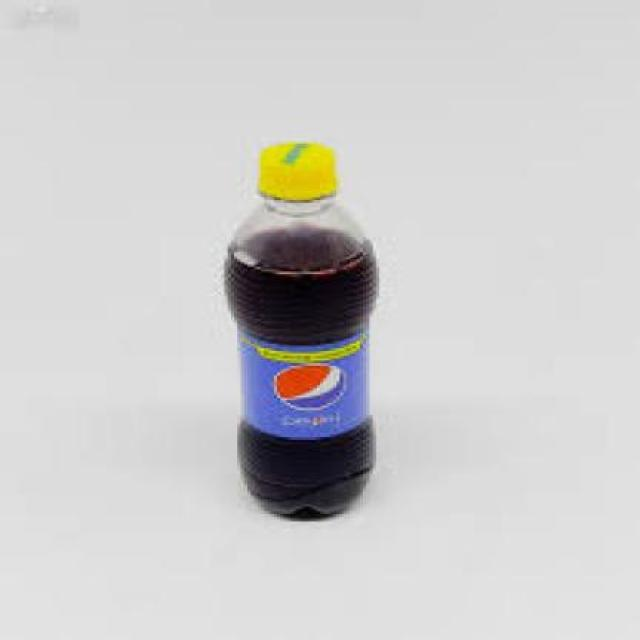high: (225, 142, 376, 514)
